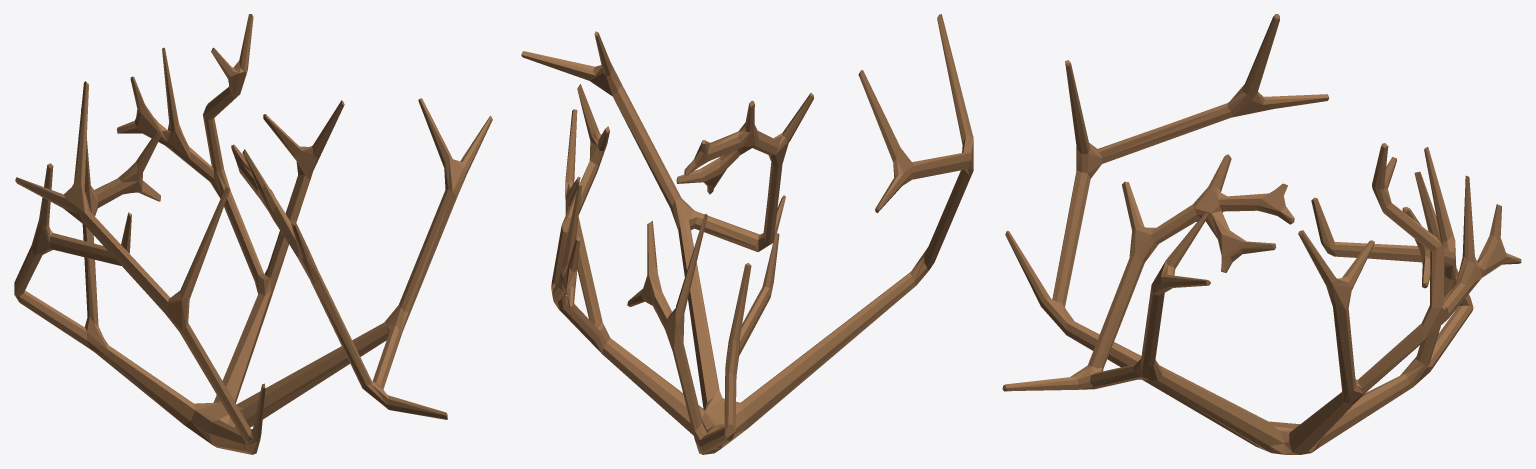
File: Bush_6 Withered.fbx
3 views of the same model, side by side, from view 1: azimuth 30°, elevation 25°; view 2: azimuth 150°, elevation 25°; view 3: azimuth 270°, elevation 25° (orthographic). The views are drawn at different scales.
Parts seen in each view (by area): view 1: Bush6Withered_mesh; view 2: Bush6Withered_mesh; view 3: Bush6Withered_mesh.
Part boxes in pixels (x1=…): Bush6Withered_mesh: x1=14, y1=14, x2=492, y2=454; Bush6Withered_mesh: x1=521, y1=14, x2=973, y2=454; Bush6Withered_mesh: x1=1002, y1=14, x2=1521, y2=454.
Size of the model in its own units: 137 by 124 by 156.
